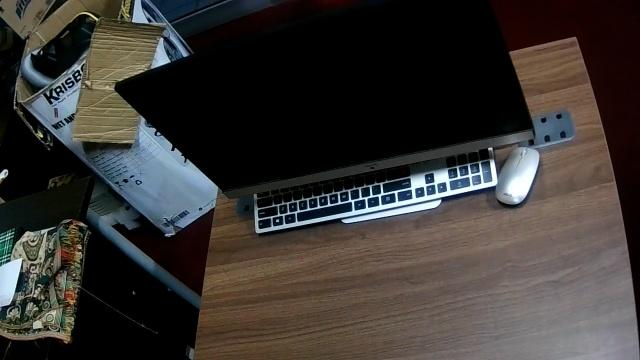AIO PC-Monitor-TV: (112, 0, 536, 199)
Meja: (193, 34, 639, 359)
